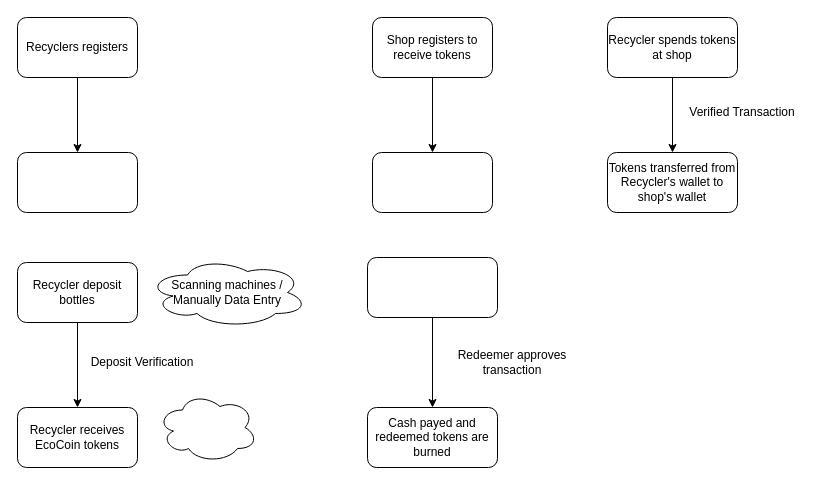
This 815x485 diagram has some shape labels left out. Each missing label, with the centre of its shape:
1 bottle = 2 tokens: the point at 207,427
Recycler's wallet created: the point at 77,182
Shop redeems tokens at Municipality: the point at 432,287
Shop's wallet created: the point at 432,182
